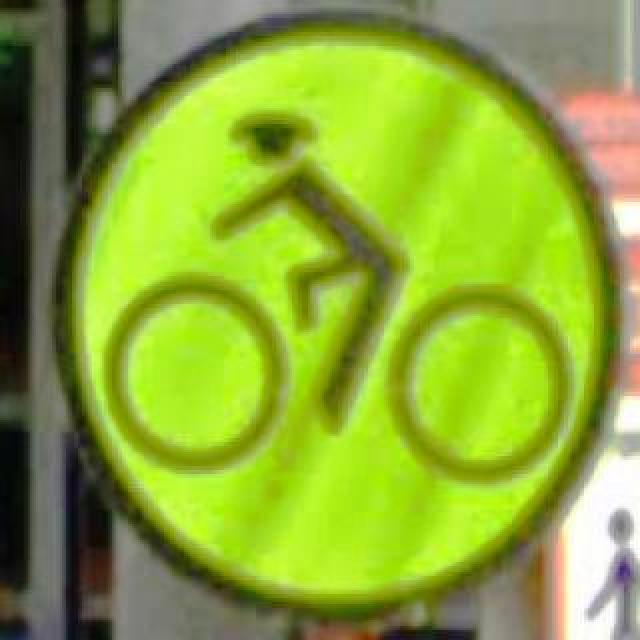bike lane: (50, 4, 622, 616)
